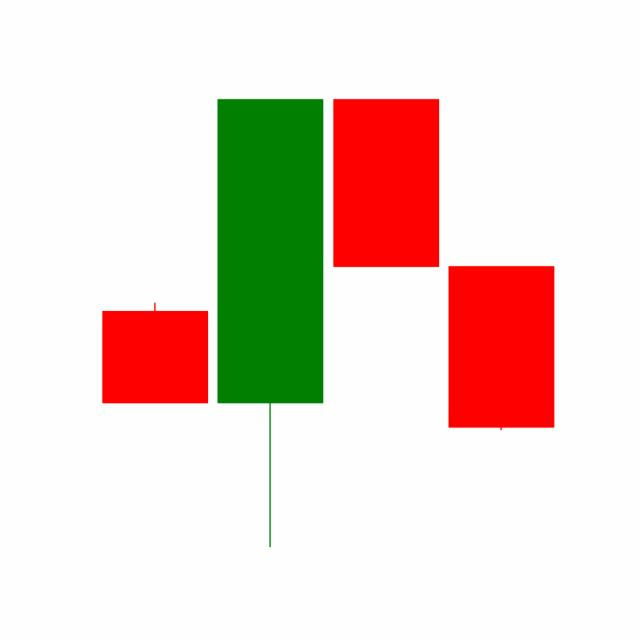Marubozu: (443, 263, 559, 431)
